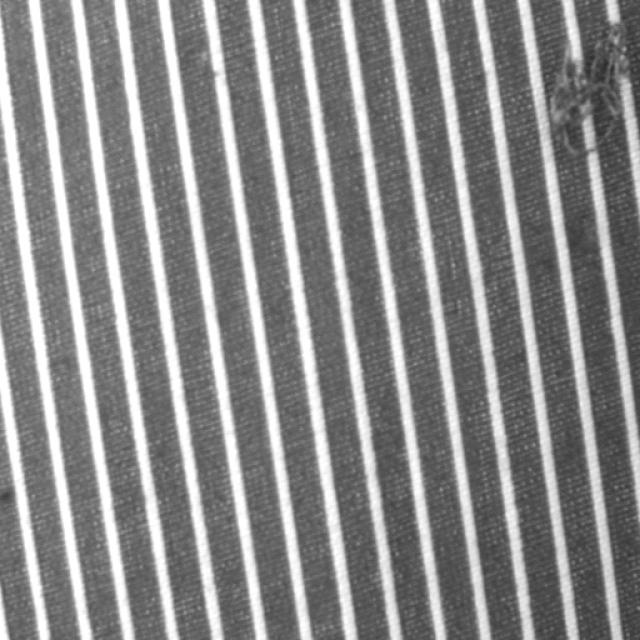Foreign-Body-Defect: (549, 21, 629, 155)
